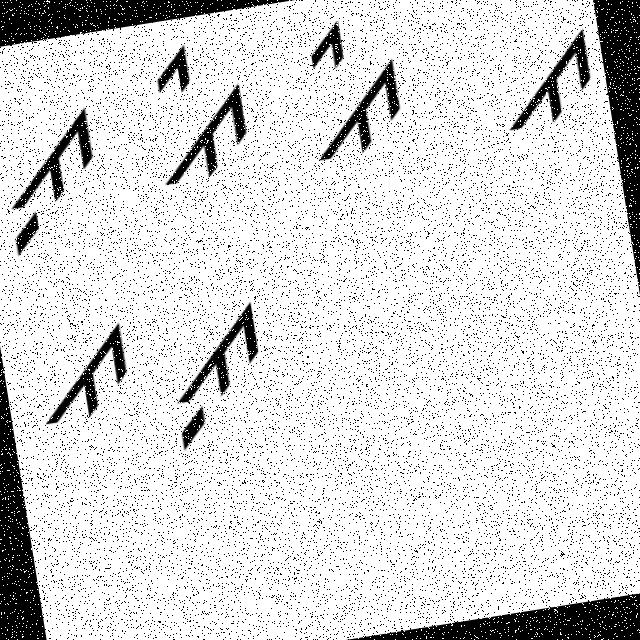ka: (13, 314, 142, 442), (484, 14, 601, 139)
ki: (285, 4, 421, 172), (133, 34, 262, 194)
ku: (145, 279, 283, 454), (0, 99, 123, 269)
